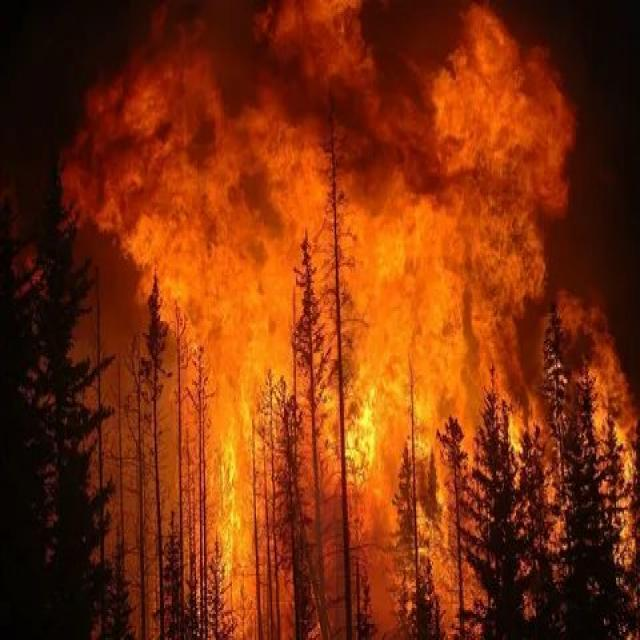Fire: (184, 330, 482, 640)
